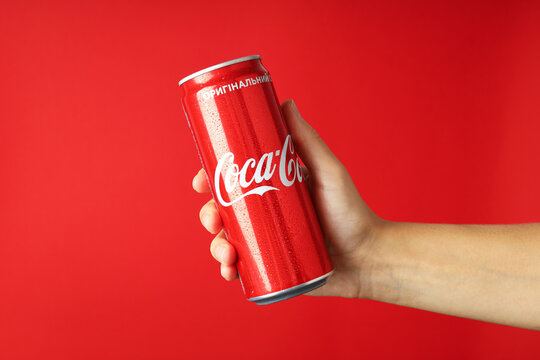can: (167, 52, 361, 314)
